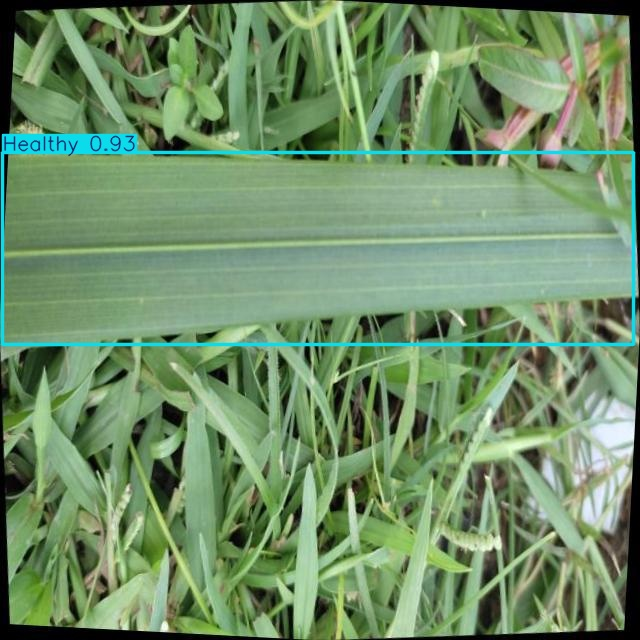Healthy: (2, 153, 634, 344)
